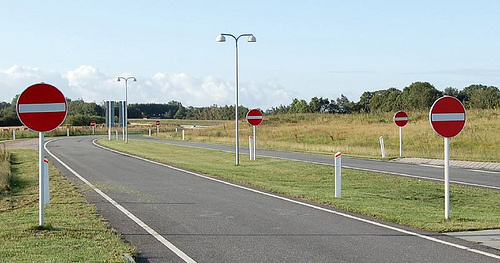No entry: (17, 79, 69, 131), (430, 92, 470, 146), (247, 105, 267, 129), (390, 110, 410, 129), (88, 120, 98, 129)
